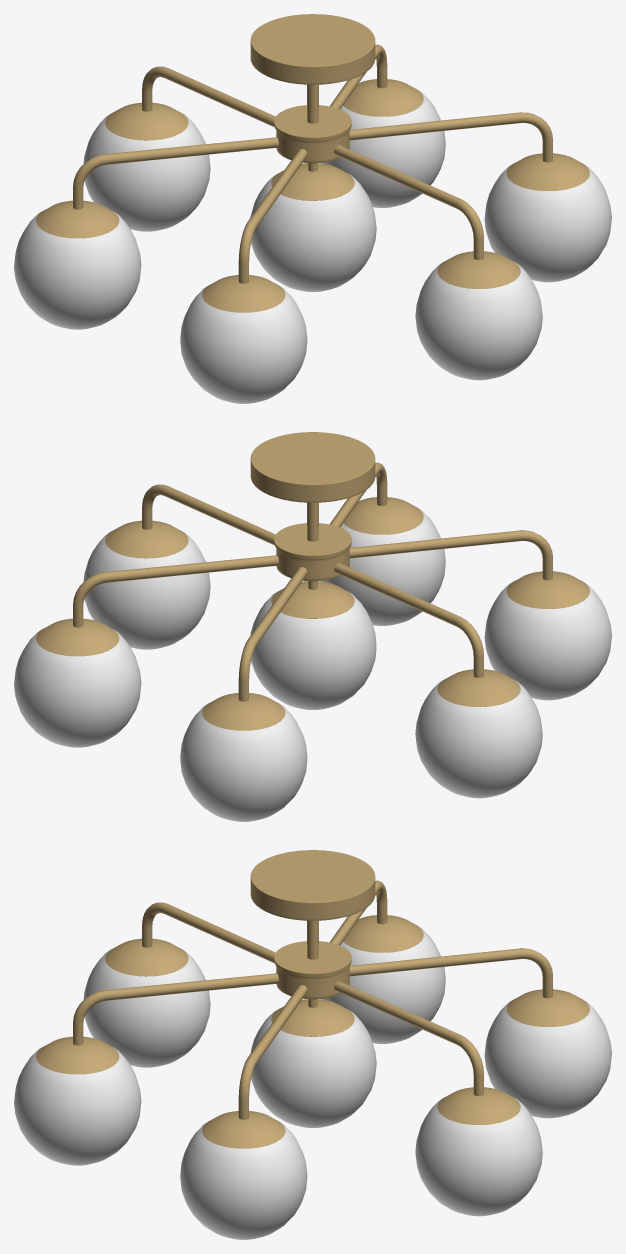
3 renders of one model, top to bottom at view 1: azimuth 30°, elevation 25°; view 2: azimuth 150°, elevation 25°; view 3: azimuth 270°, elevation 25°, orthographic.
Parts seen in each view (by area): view 1: Vegaflushmountlamp; view 2: Vegaflushmountlamp; view 3: Vegaflushmountlamp.
Boxes of the visible parts, x1,y1,x2,y2 form: Vegaflushmountlamp: (14,14,611,403); Vegaflushmountlamp: (14,432,611,821); Vegaflushmountlamp: (14,850,611,1239).
Bounding box in the file's own units: 0.5687 × 0.2762 × 0.576.
Materials: 1 (1 with a texture image).
